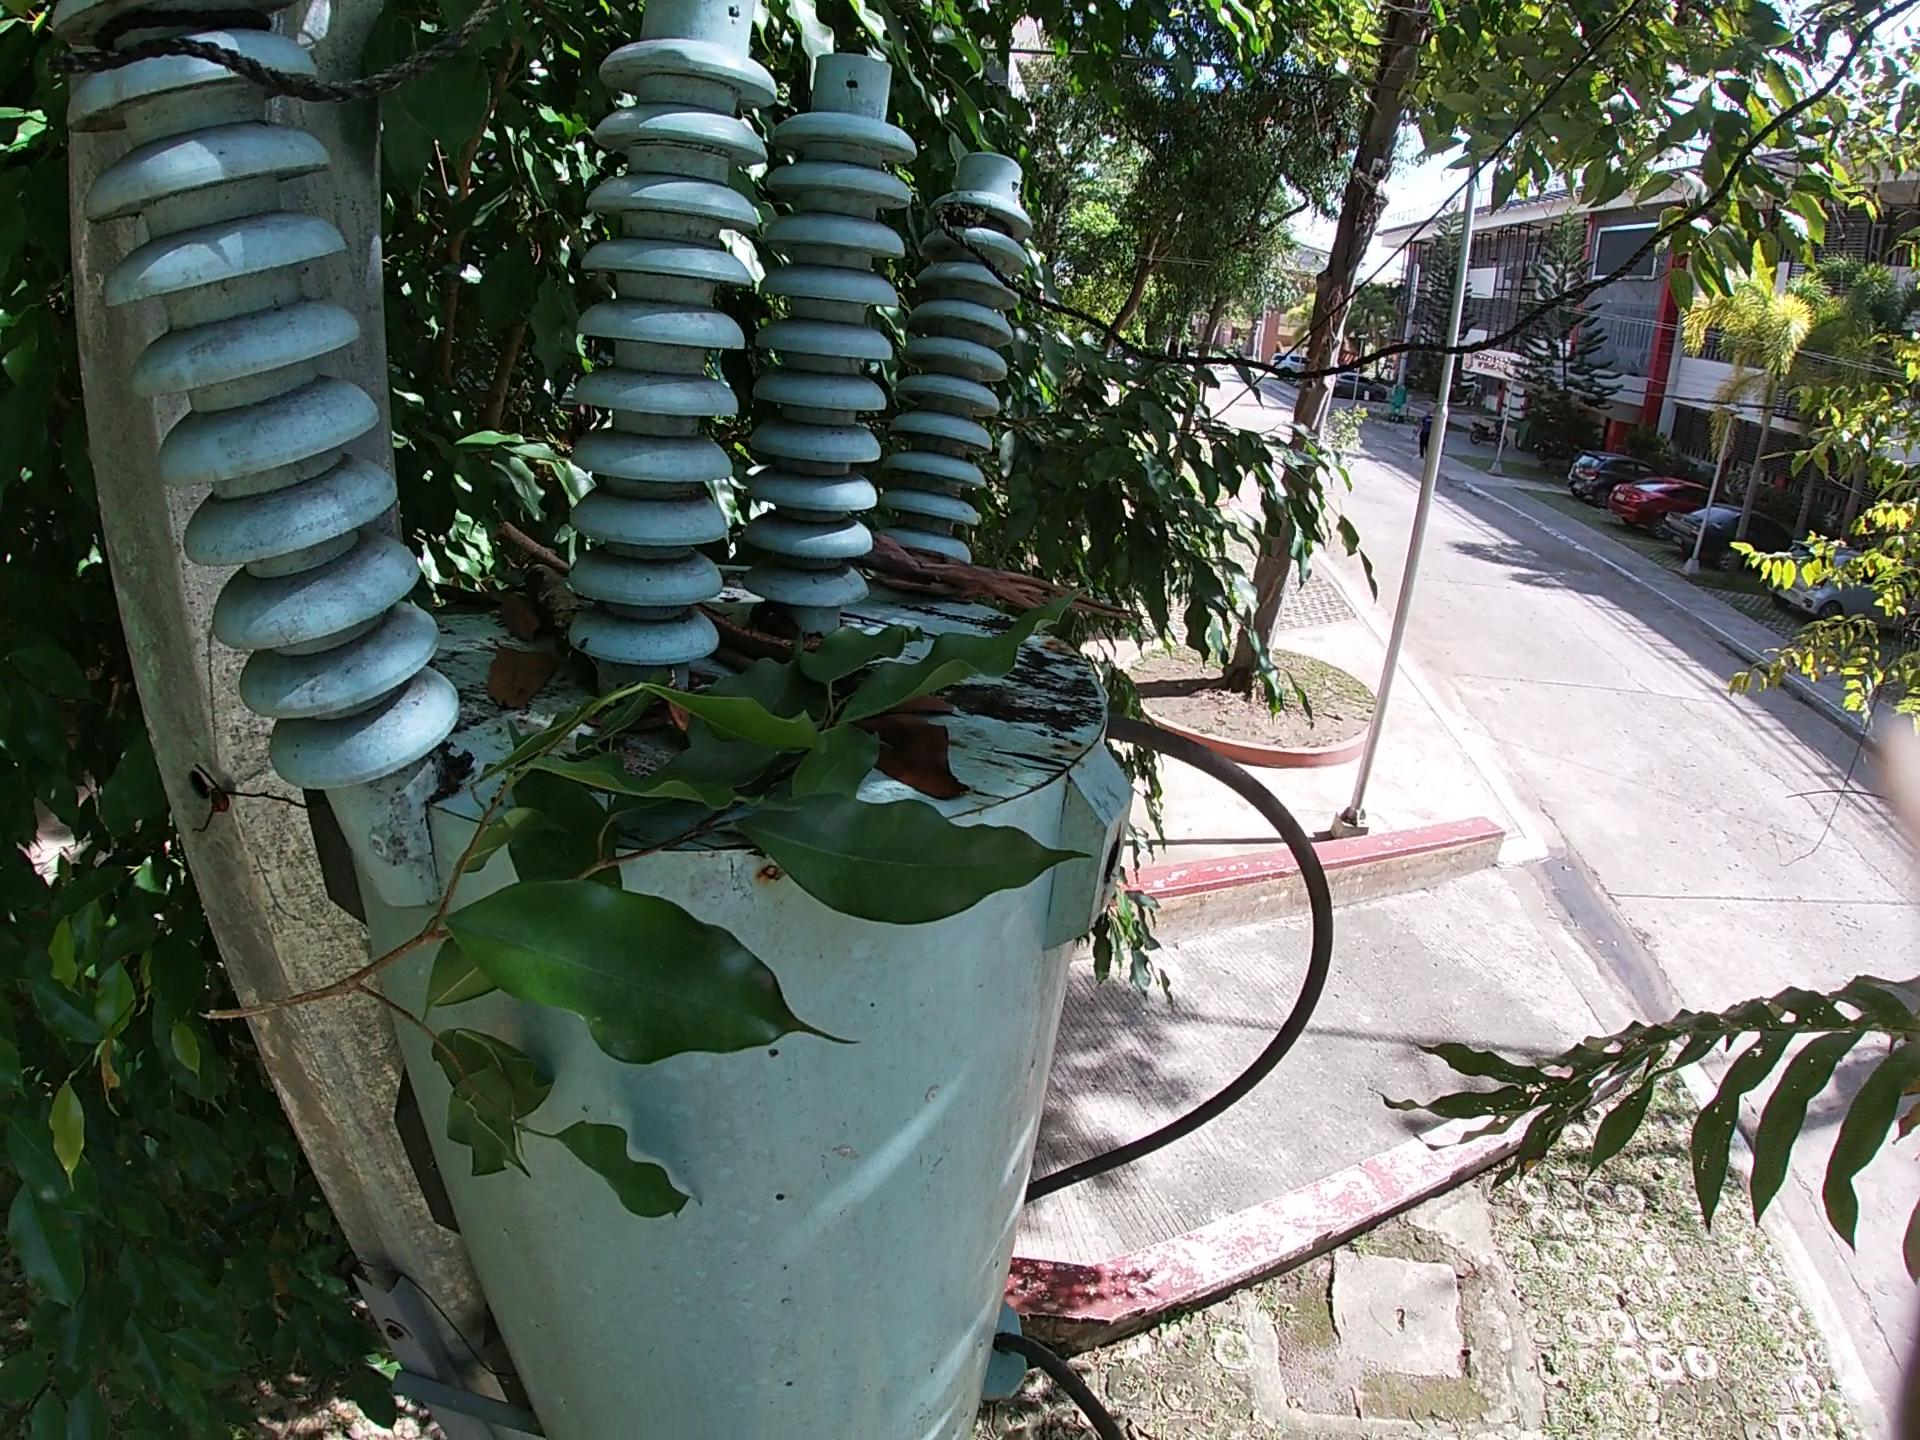branch with leaves: (192, 584, 1108, 1230)
leaf: (850, 712, 975, 808), (481, 643, 562, 709), (487, 584, 547, 650)
mahogany fruit: (700, 607, 830, 670)
tree branch: (865, 529, 1144, 635), (494, 513, 568, 573)
